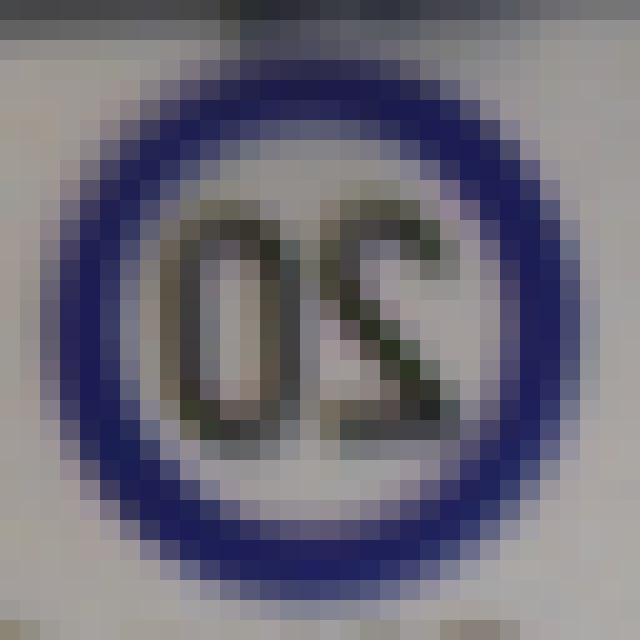SPEED LIMIT 20: (52, 60, 584, 586)
